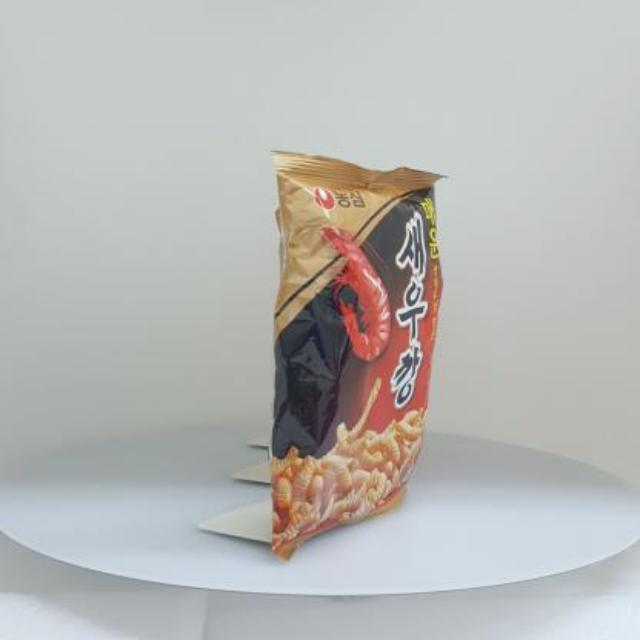snack_bag: (251, 136, 475, 568)
